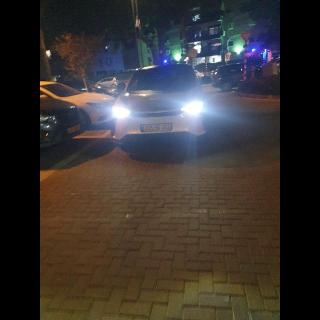LicensePlate: (144, 124, 171, 132)
